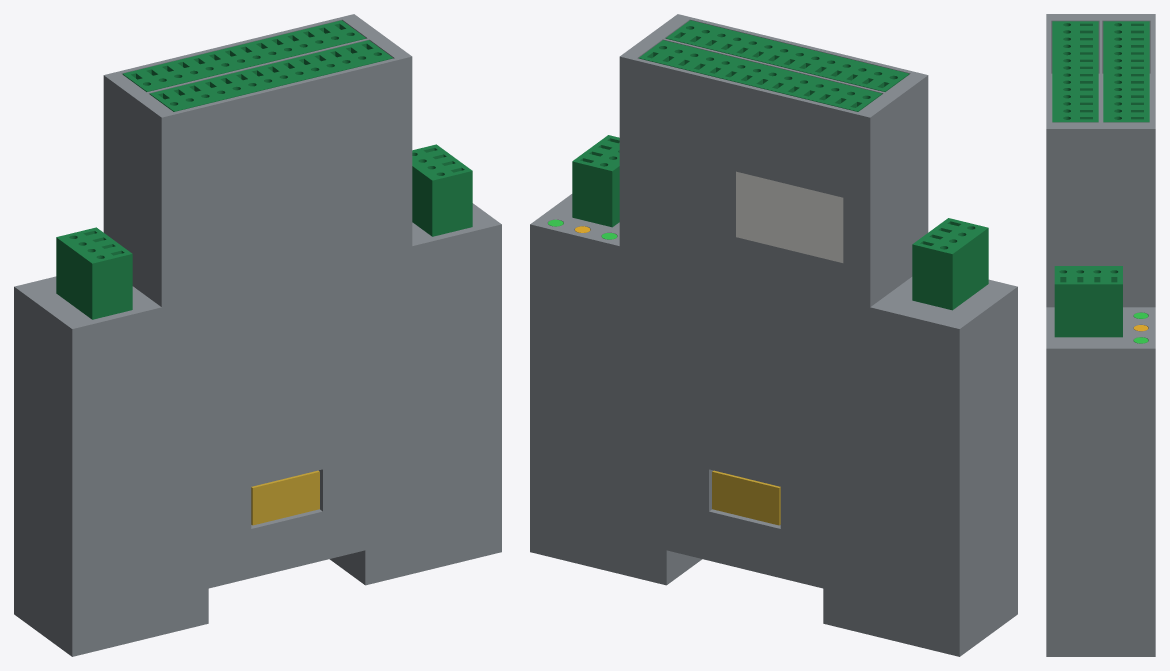
Rendered from revpi_dio.glb.
3 views of the same model, side by side, from view 1: azimuth 30°, elevation 25°; view 2: azimuth 150°, elevation 25°; view 3: azimuth 270°, elevation 25° (orthographic). The views are drawn at different scales.
Visible parts, largest first — view 1: housing, supply_plug_x4, io_plug_2, io_plug_1, supply_plug_x2, pibridge_left; view 2: housing, id_plate, supply_plug_x4, io_plug_1, io_plug_2, supply_plug_x2, pibridge_right; view 3: housing, supply_plug_x2, io_plug_1, io_plug_2.
Part boxes in pixels (x1,y1,x2,y2): housing: (14, 14, 501, 656); supply_plug_x4: (56, 227, 132, 319); io_plug_2: (122, 20, 366, 91); io_plug_1: (149, 40, 393, 111); supply_plug_x2: (412, 144, 472, 236); pibridge_left: (251, 470, 319, 525); housing: (530, 14, 1017, 656); id_plate: (736, 171, 843, 262); supply_plug_x4: (912, 218, 988, 310); io_plug_1: (665, 20, 909, 91); io_plug_2: (638, 40, 882, 111); supply_plug_x2: (572, 135, 619, 227); pibridge_right: (712, 470, 780, 525); housing: (1046, 14, 1155, 656); supply_plug_x2: (1054, 266, 1122, 337); io_plug_1: (1052, 21, 1098, 122); io_plug_2: (1103, 21, 1149, 122).
Bounding box in the file's own units: 0.096 × 0.1105 × 0.0225.
